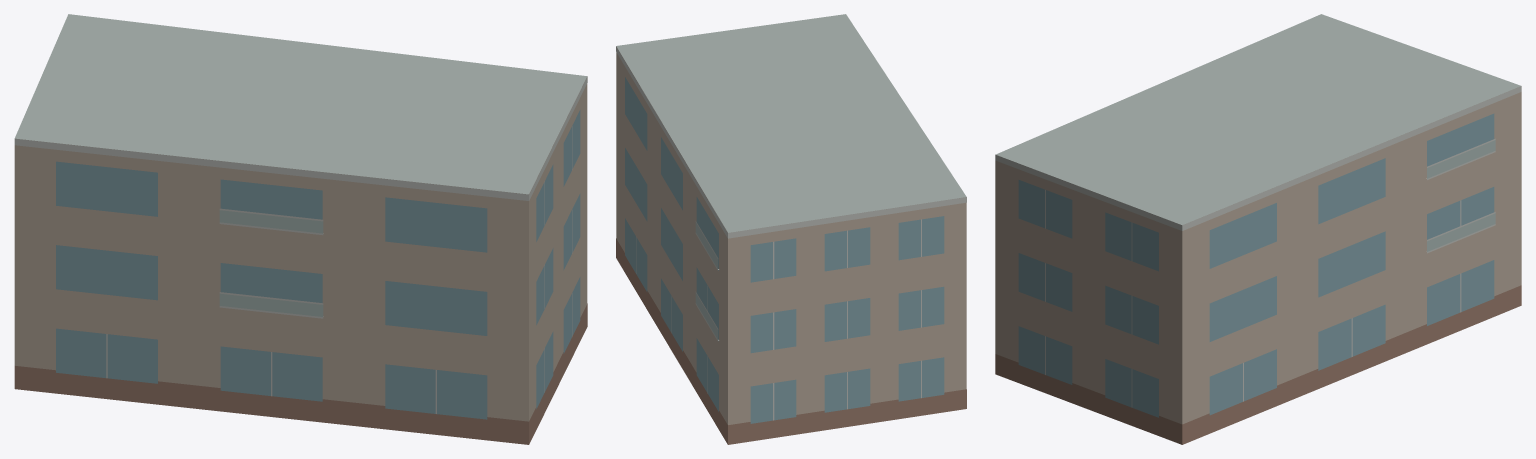
Rendered from survey-upis-32717485.glb.
3 renders of one model, left to right at view 1: azimuth 30°, elevation 25°; view 2: azimuth 150°, elevation 25°; view 3: azimuth 270°, elevation 25°, orthographic. The views are drawn at different scales.
Visible parts, largest first — view 1: survey-upis-32717485.tmp; view 2: survey-upis-32717485.tmp; view 3: survey-upis-32717485.tmp.
Part boxes in pixels (x1,y1,x2,y2): survey-upis-32717485.tmp: (14, 14, 587, 444); survey-upis-32717485.tmp: (616, 14, 966, 444); survey-upis-32717485.tmp: (995, 14, 1521, 444).
Size of the model in its own units: 18.88 by 9.15 by 19.87.
